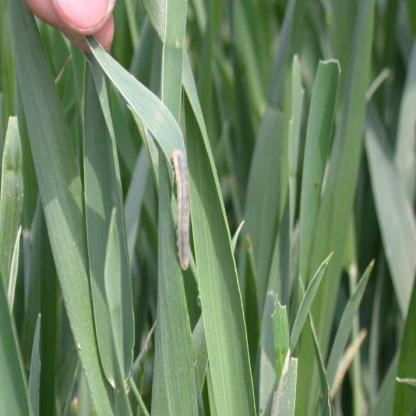sawfly: (165, 144, 196, 271)
